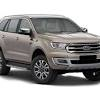Ford: (1, 12, 100, 83)
